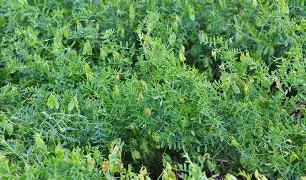crops: (0, 0, 301, 176), (51, 79, 126, 149), (1, 136, 108, 180), (136, 81, 204, 149), (242, 112, 304, 177), (240, 0, 300, 51), (206, 45, 265, 96), (132, 33, 188, 81), (1, 43, 56, 88), (266, 43, 305, 97), (97, 141, 148, 179), (89, 29, 131, 71), (201, 7, 242, 40), (172, 147, 213, 178), (60, 27, 97, 60), (0, 79, 35, 113), (63, 0, 104, 24), (13, 24, 44, 50), (201, 112, 230, 137), (134, 14, 156, 45), (43, 6, 69, 32), (235, 167, 268, 180), (22, 160, 40, 180), (0, 134, 17, 155), (31, 131, 46, 153), (0, 115, 14, 136), (216, 78, 234, 94), (0, 155, 12, 177), (51, 31, 63, 53), (292, 17, 306, 33)
